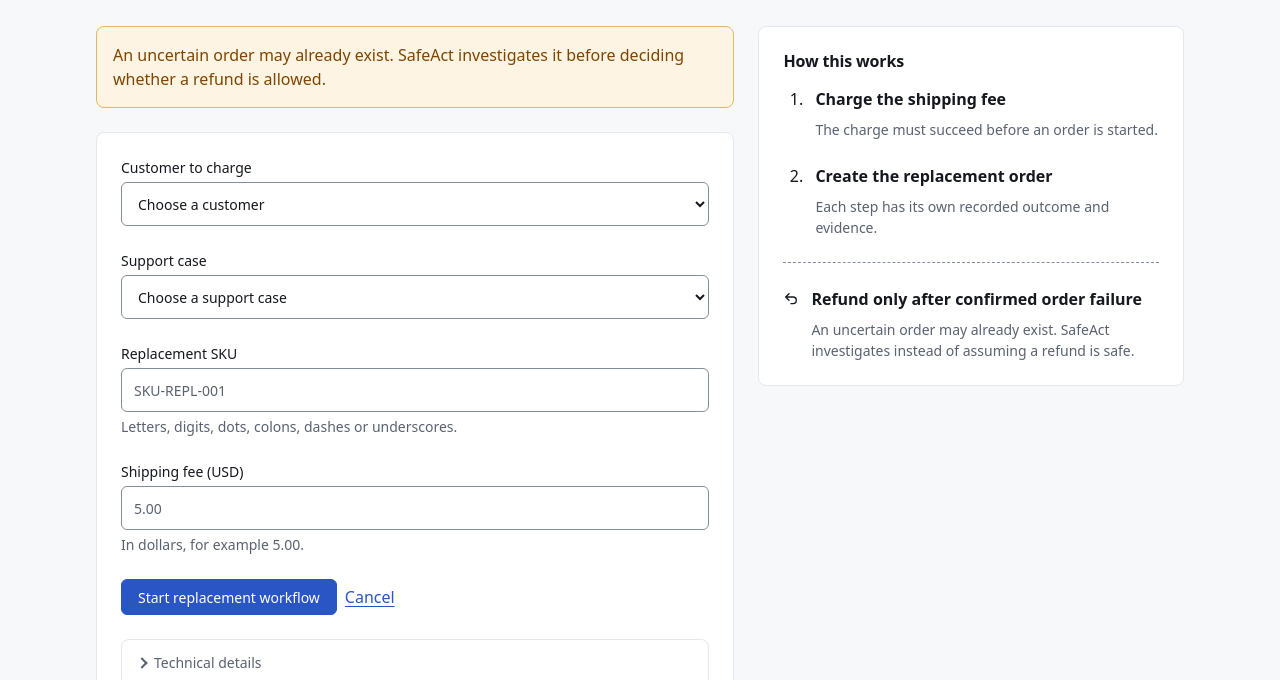
Scenario: replacement workflow › validates before creating a workflow
The width and height of the screenshot is (1280, 680).
(page scrolled)
What coordinates should you click on to do the following:
click the button "Start replacement workflow"
I would click on:
 (229, 597)
Its box is [121,579,337,615].
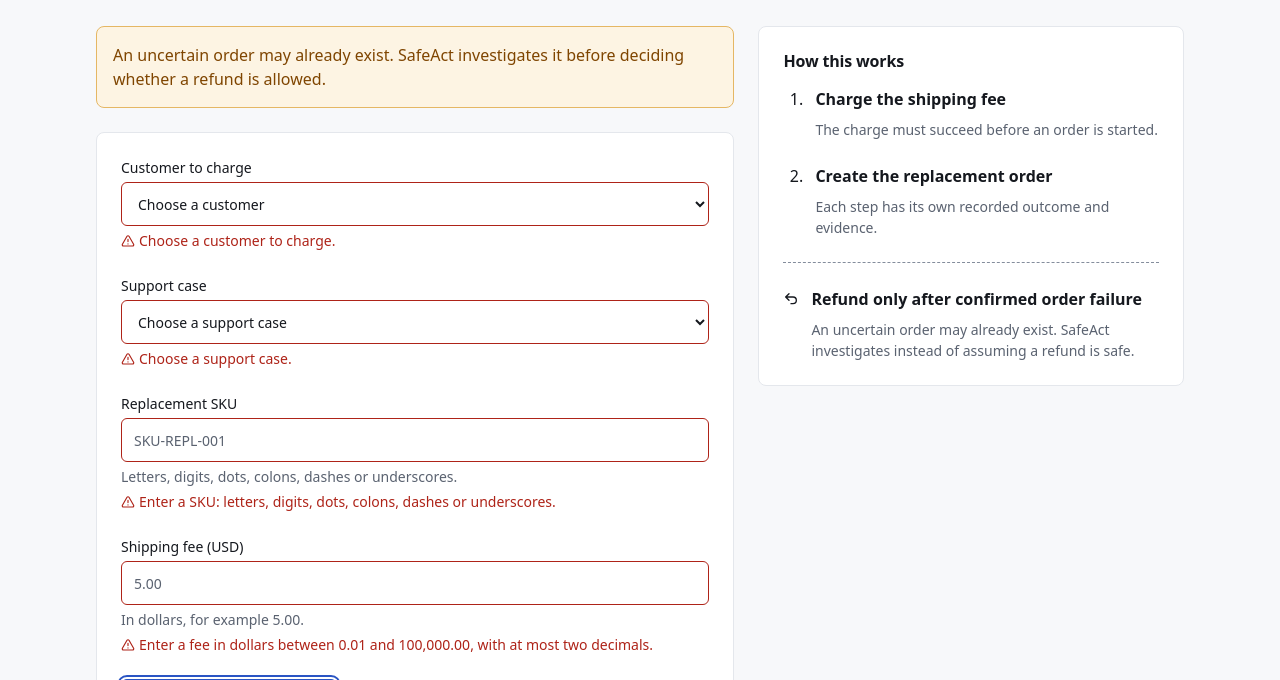
Check: the text "Choose a customer to charge." is shown, box [121,231,336,250]
Check: the text "Choose a support case." is shown, box [121,349,292,368]
